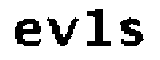1: (82, 6, 113, 49)
e: (11, 16, 43, 49)
s: (116, 14, 148, 52)
v: (44, 14, 81, 48)
